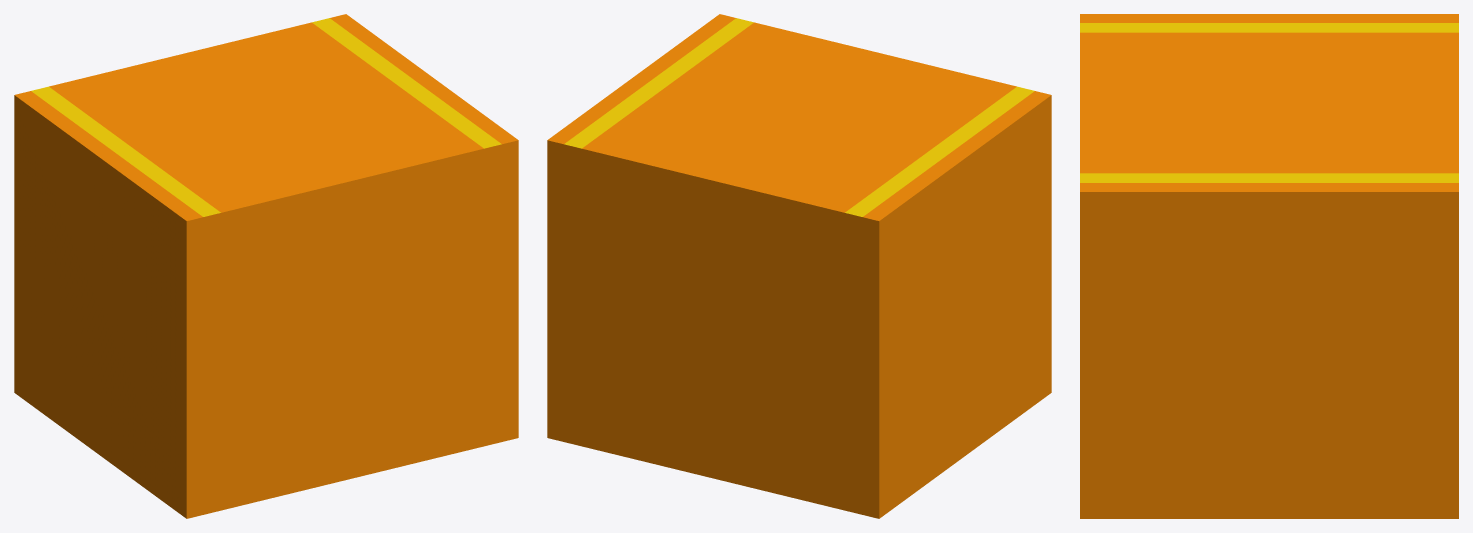
The model's file is Floor6.fbx.
The picture shows the model from 3 angles, left to right: view 1: azimuth 30°, elevation 25°; view 2: azimuth 150°, elevation 25°; view 3: azimuth 270°, elevation 25°; orthographic projection. The views are drawn at different scales.
Visible parts, largest first — view 1: Circle; view 2: Circle; view 3: Circle.
Part boxes in pixels (x1,y1,x2,y2): Circle: (14, 14, 518, 518); Circle: (547, 14, 1051, 518); Circle: (1080, 14, 1458, 518).
Bounding box in the file's own units: 1400 × 1200 × 1260.
